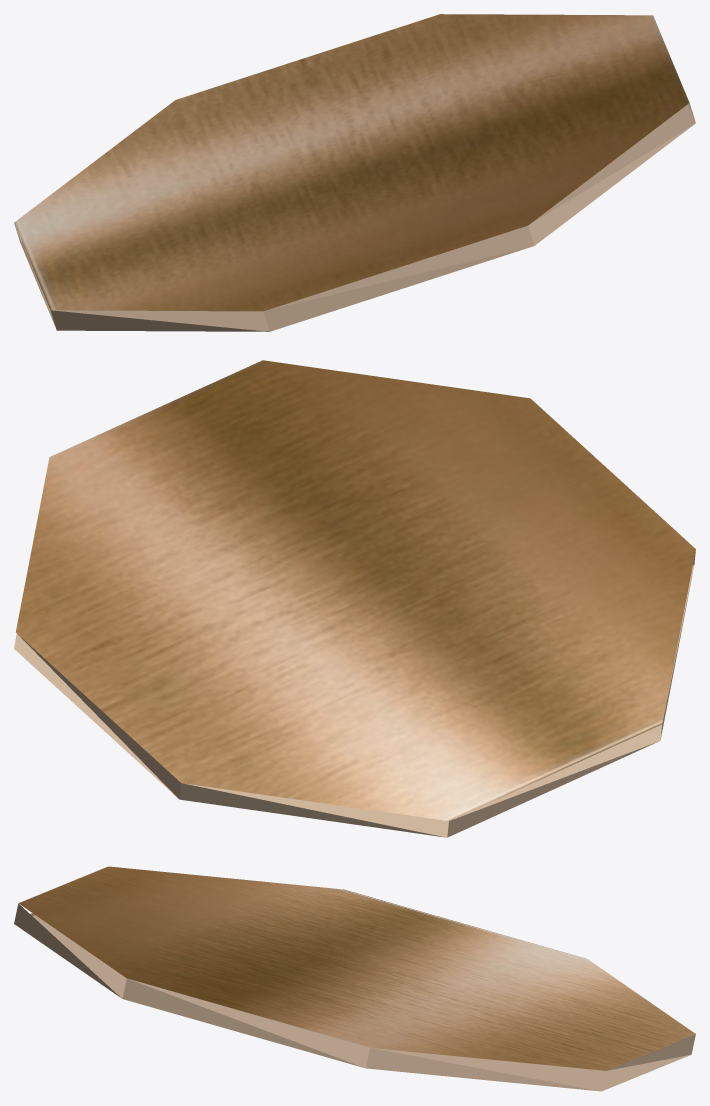
Rendered from cymbal1.gltf.
3 renders of one model, top to bottom at view 1: azimuth 30°, elevation 25°; view 2: azimuth 150°, elevation 25°; view 3: azimuth 270°, elevation 25°, orthographic. The views are drawn at different scales.
Parts seen in each view (by area): view 1: Cymbal1; view 2: Cymbal1; view 3: Cymbal1.
Boxes of the visible parts, x1,y1,x2,y2 form: Cymbal1: (14, 14, 695, 331); Cymbal1: (14, 360, 695, 837); Cymbal1: (14, 866, 695, 1091).
Size of the model in its own units: 2.93 by 0.9528 by 2.93.
1 material, 1 textured.
